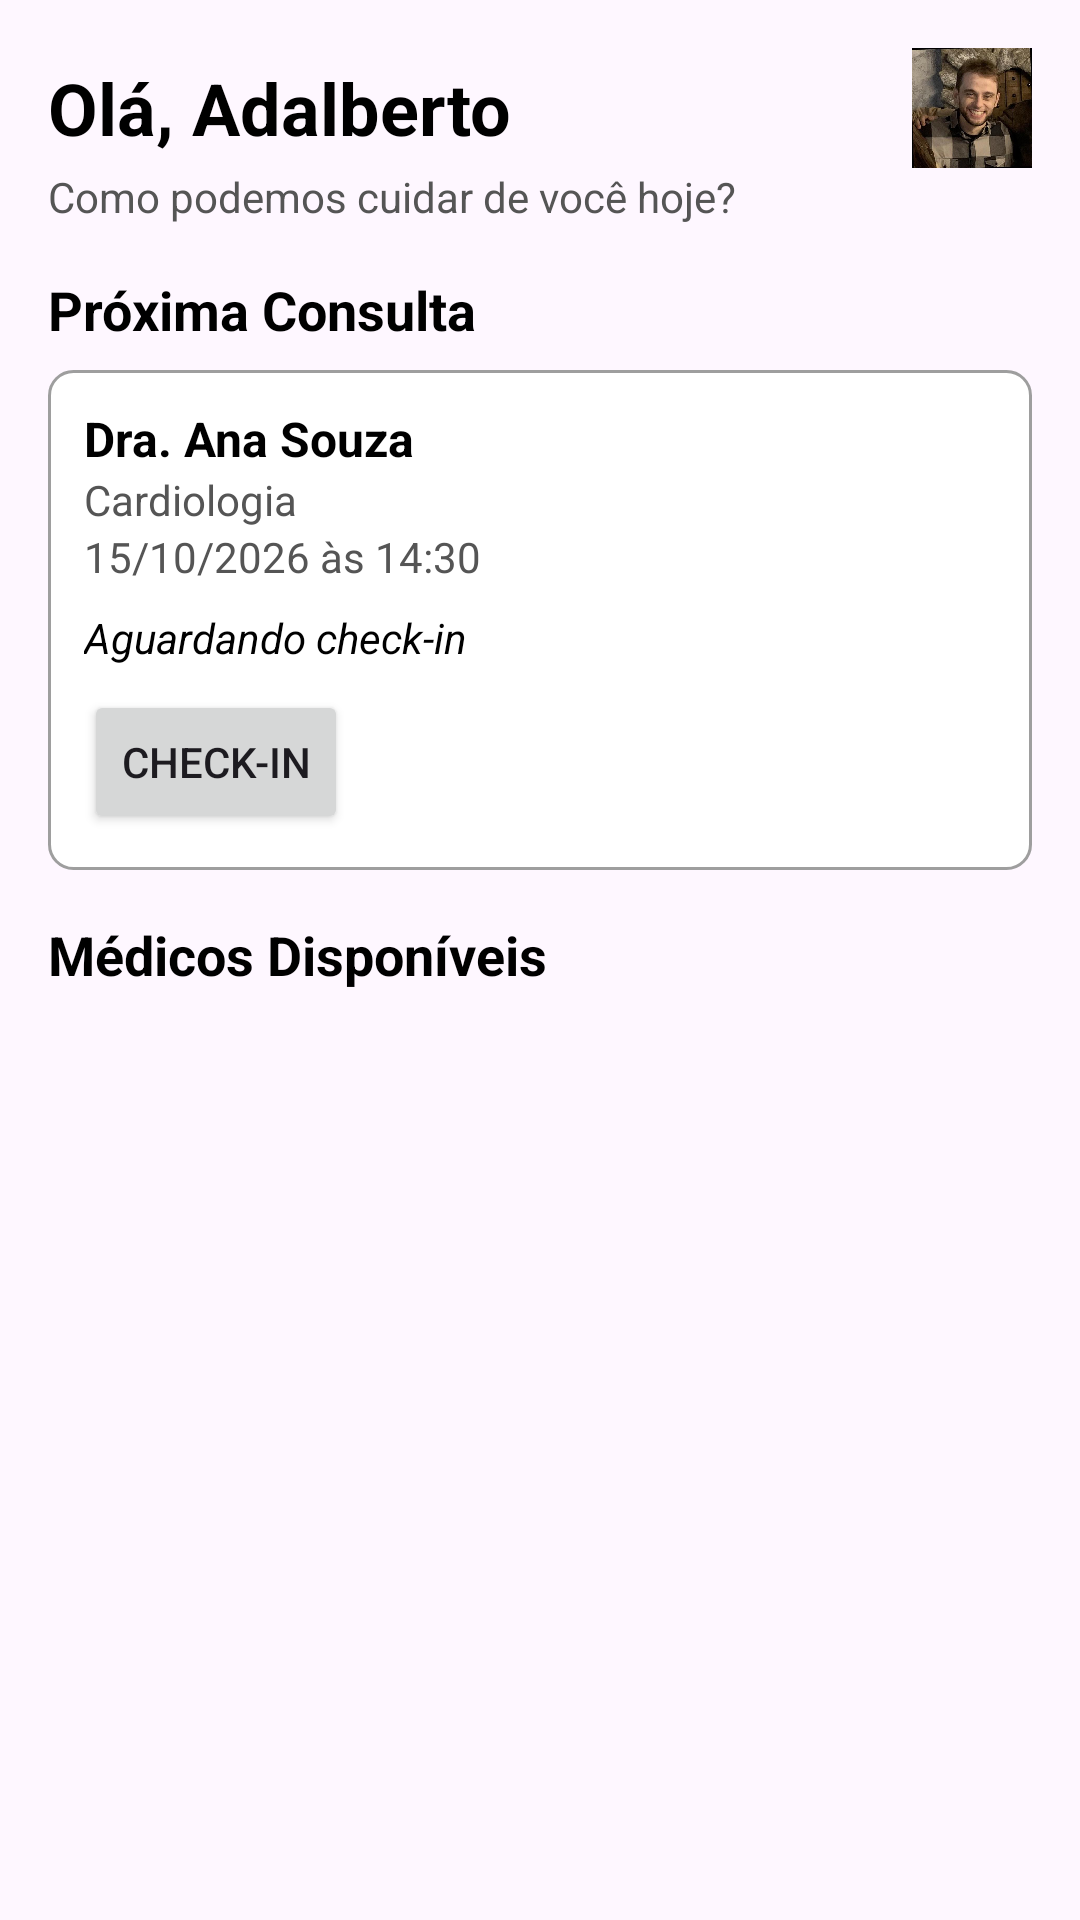

Named icons in this screenshot (1080x1920) and their centers, (x,y):
Foto de perfil do usuário: (972,108)
